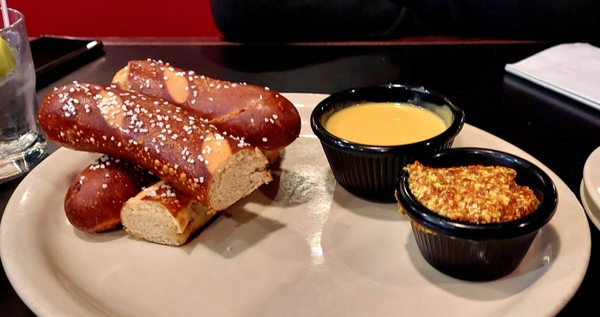soup: (33, 58, 302, 247)
sushi: (396, 145, 559, 281), (309, 83, 466, 203), (580, 143, 600, 237)
